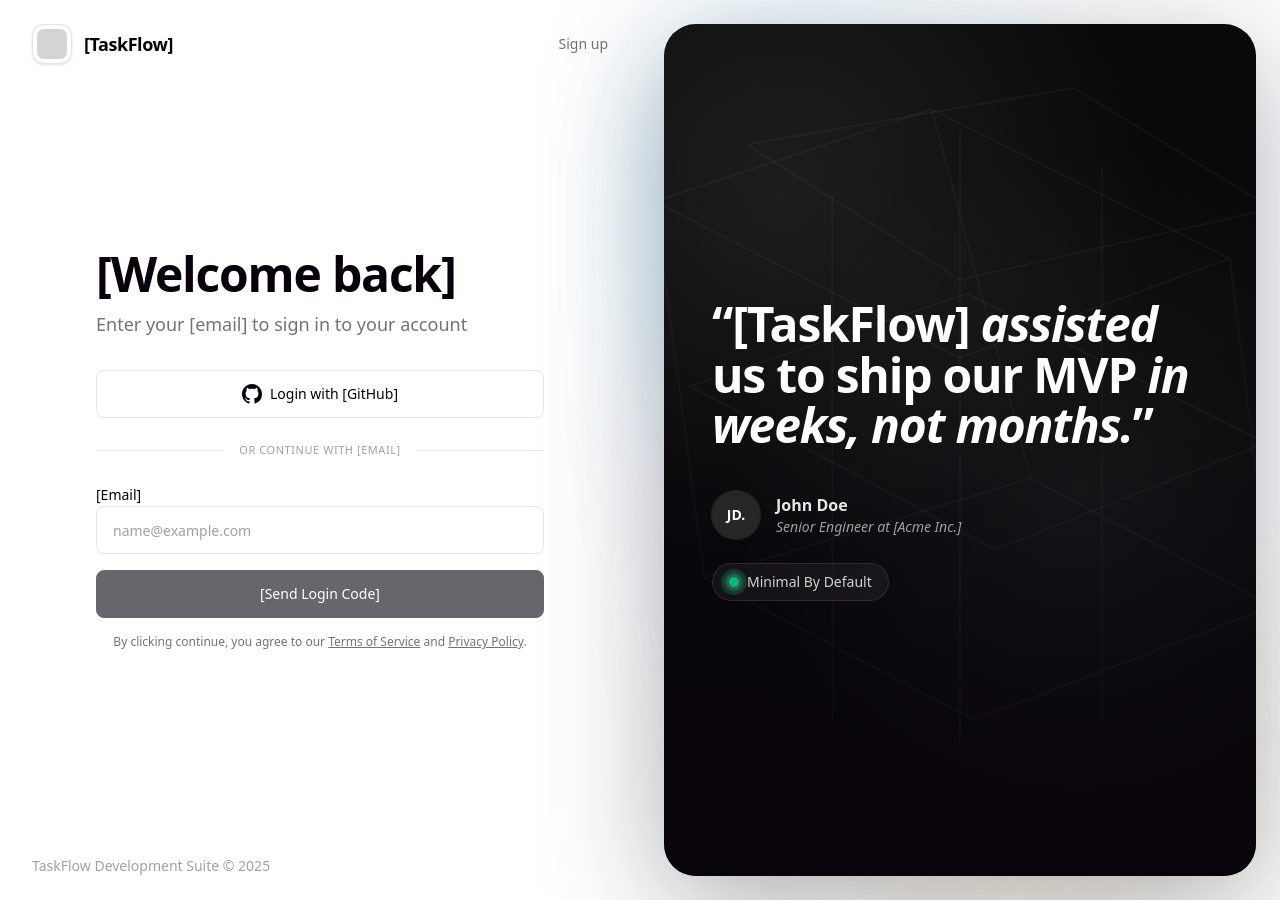
Test: LoginPage moves to code step after requesting OTP
The image size is (1280, 900).
In the field with placeholder "name@example.com": (320, 530) x1=96 y1=506 x2=544 y2=554, type "user@example.com"
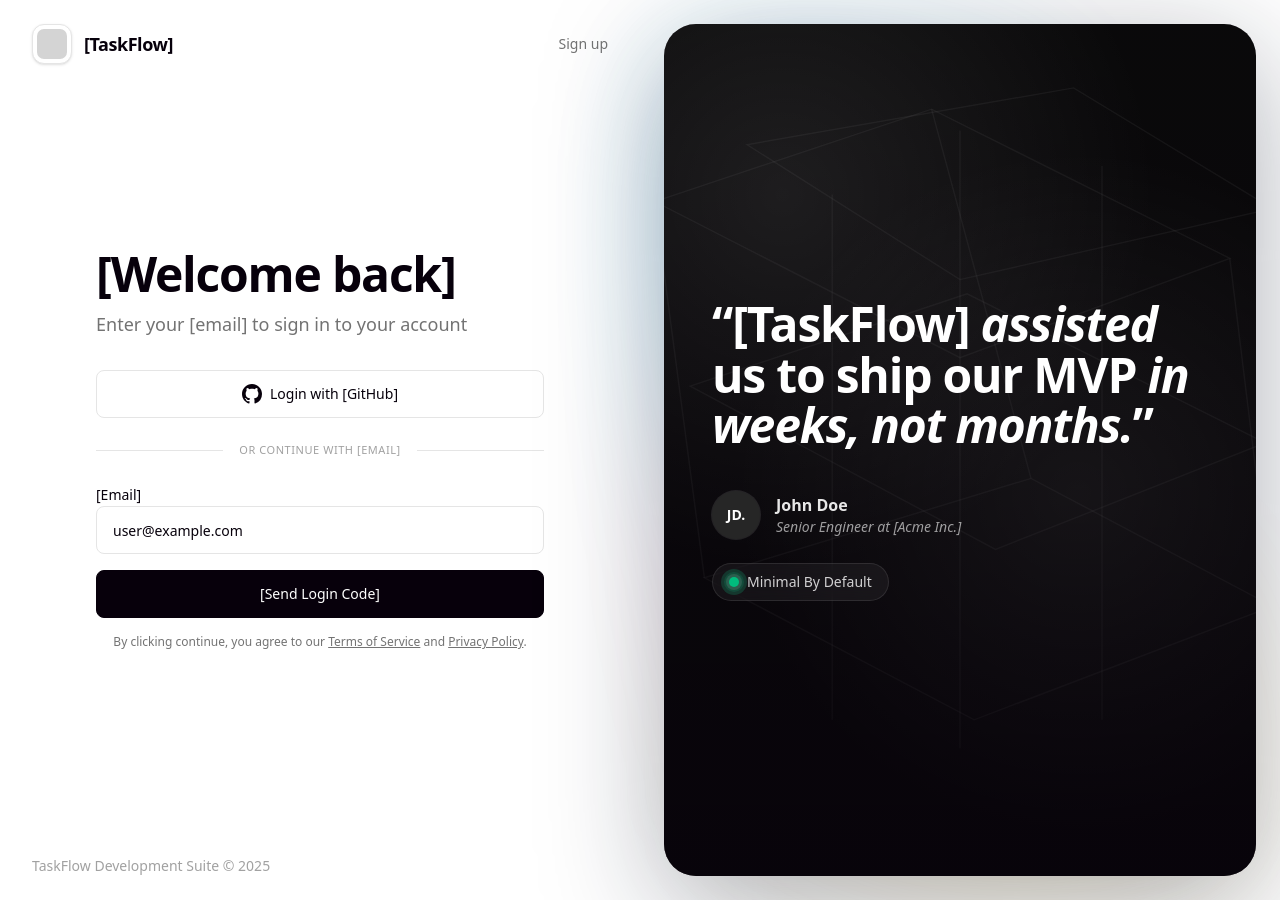
Click the button "[Send Login Code]": (320, 594) x1=96 y1=570 x2=544 y2=618
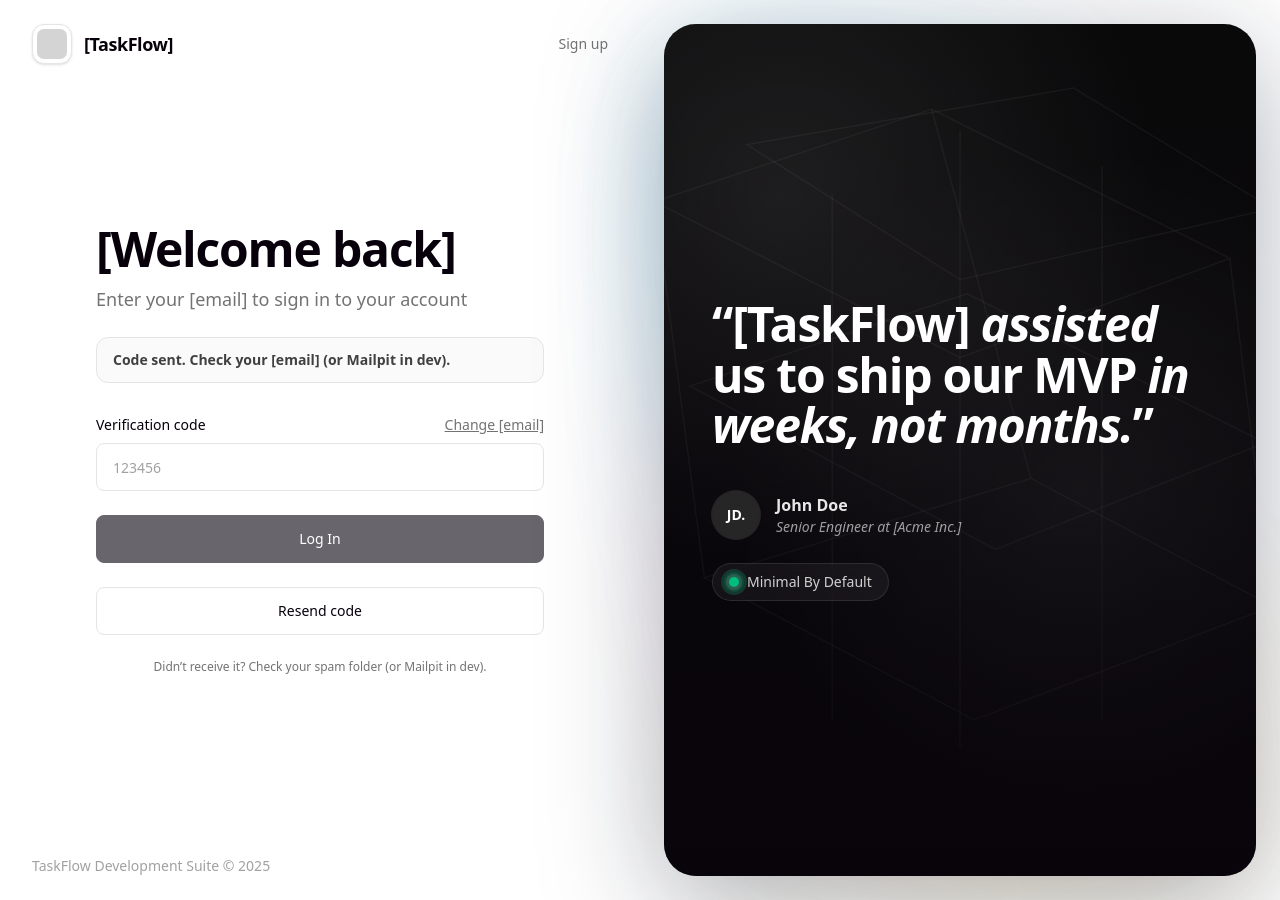
Check: the field with placeholder "123456" is shown, box x1=96 y1=443 x2=544 y2=491
